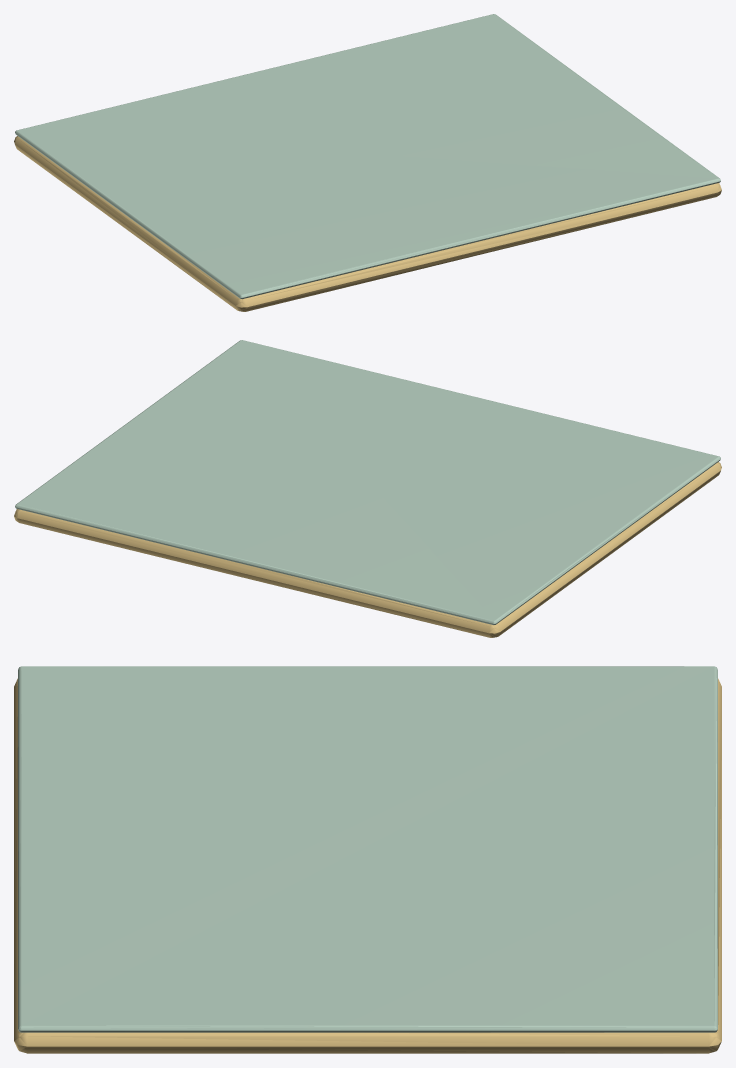
Rendered from DW_Island_1.fbx.
The picture shows the model from 3 angles, top to bottom: view 1: azimuth 30°, elevation 25°; view 2: azimuth 150°, elevation 25°; view 3: azimuth 270°, elevation 25°; orthographic projection. The views are drawn at different scales.
Visible parts, largest first — view 1: Island_1; view 2: Island_1; view 3: Island_1.
Boxes of the visible parts, <box> form: Island_1: <box>14,14,721,311</box>; Island_1: <box>14,340,721,637</box>; Island_1: <box>14,666,721,1053</box>.
Size of the model in its own units: 22 by 0.84 by 18.
